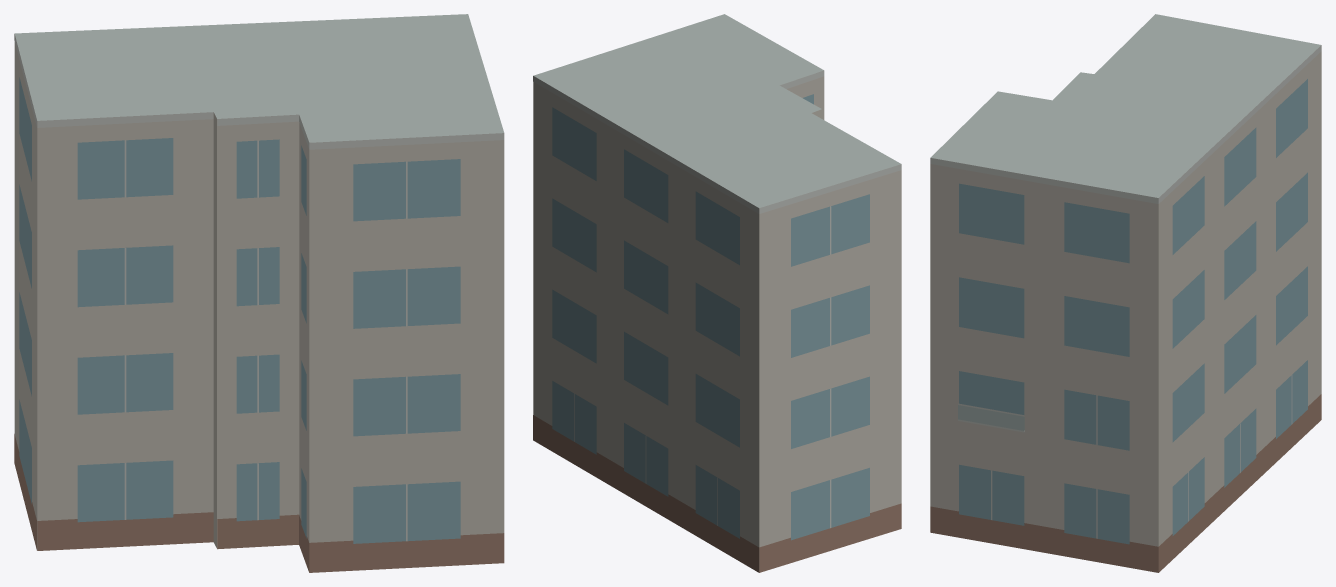
File: survey-upis-32962582.glb
3 views of the same model, side by side, from view 1: azimuth 30°, elevation 25°; view 2: azimuth 150°, elevation 25°; view 3: azimuth 270°, elevation 25° (orthographic). The views are drawn at different scales.
Parts seen in each view (by area): view 1: survey-upis-32962582.tmp; view 2: survey-upis-32962582.tmp; view 3: survey-upis-32962582.tmp.
Part boxes in pixels (bbox=[...]): survey-upis-32962582.tmp: bbox=[14, 14, 504, 572]; survey-upis-32962582.tmp: bbox=[533, 14, 901, 572]; survey-upis-32962582.tmp: bbox=[930, 14, 1321, 572].
Size of the model in its own units: 15.86 by 15.05 by 14.25.
